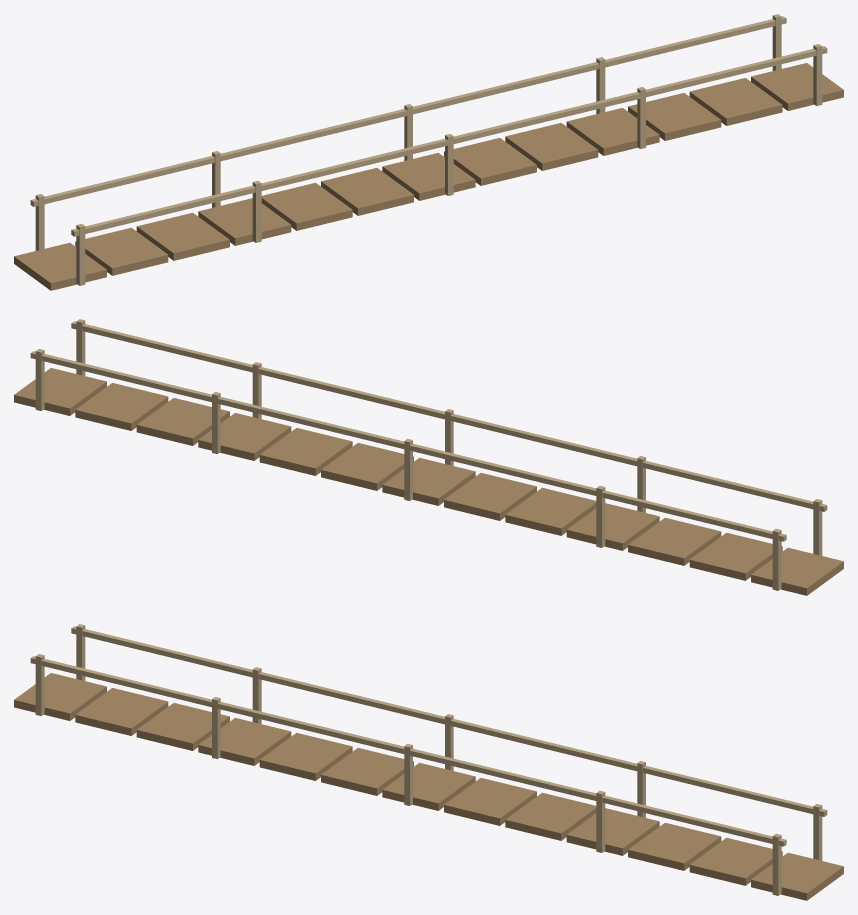
The model's file is aetherwild-rope-bridge.glb.
The picture shows the model from 3 angles, top to bottom: view 1: azimuth 30°, elevation 25°; view 2: azimuth 150°, elevation 25°; view 3: azimuth 330°, elevation 25°; orthographic projection.
Bounding box in the file's own units: 49.5 × 3.57 × 4.75.
